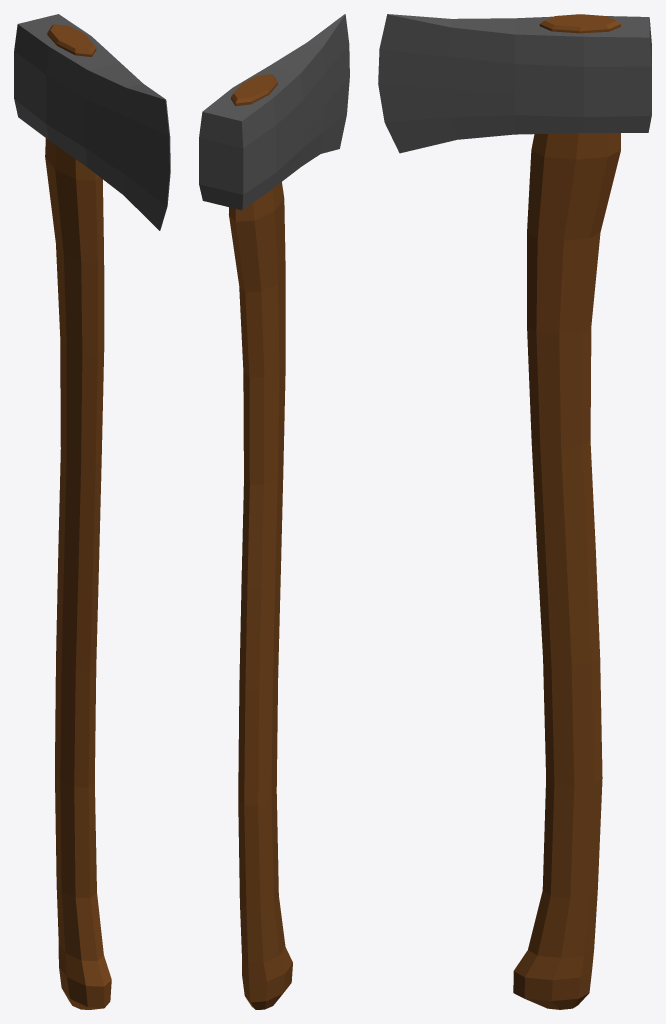
Rendered from BasicAxe.fbx.
3 views of the same model, side by side, from view 1: azimuth 30°, elevation 25°; view 2: azimuth 150°, elevation 25°; view 3: azimuth 270°, elevation 25° (orthographic). The views are drawn at different scales.
Visible parts, largest first — view 1: Handle, AxeHead; view 2: Handle, AxeHead; view 3: Handle, AxeHead.
Part boxes in pixels (x1,y1,x2,y2): Handle: (45, 24, 111, 1009); AxeHead: (14, 14, 170, 230); Handle: (228, 74, 292, 1009); AxeHead: (199, 14, 349, 210); Handle: (513, 14, 620, 1009); AxeHead: (378, 14, 651, 153).
Size of the model in its own units: 39.89 by 772 by 193.
